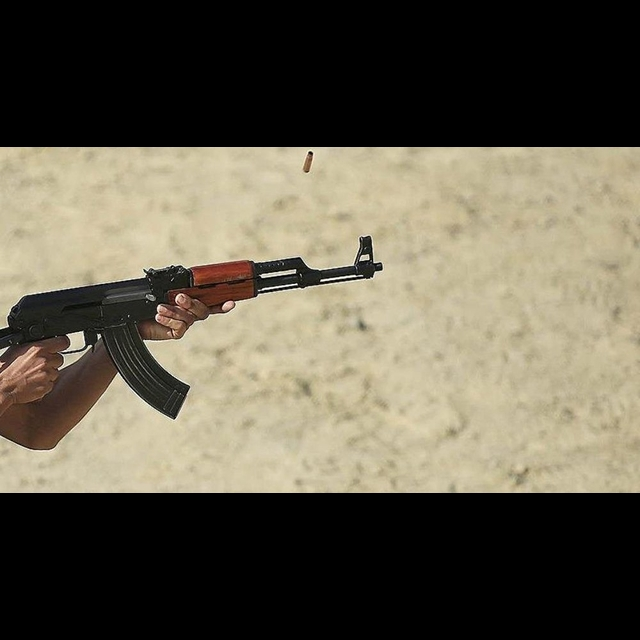AK47: (11, 235, 386, 420)
